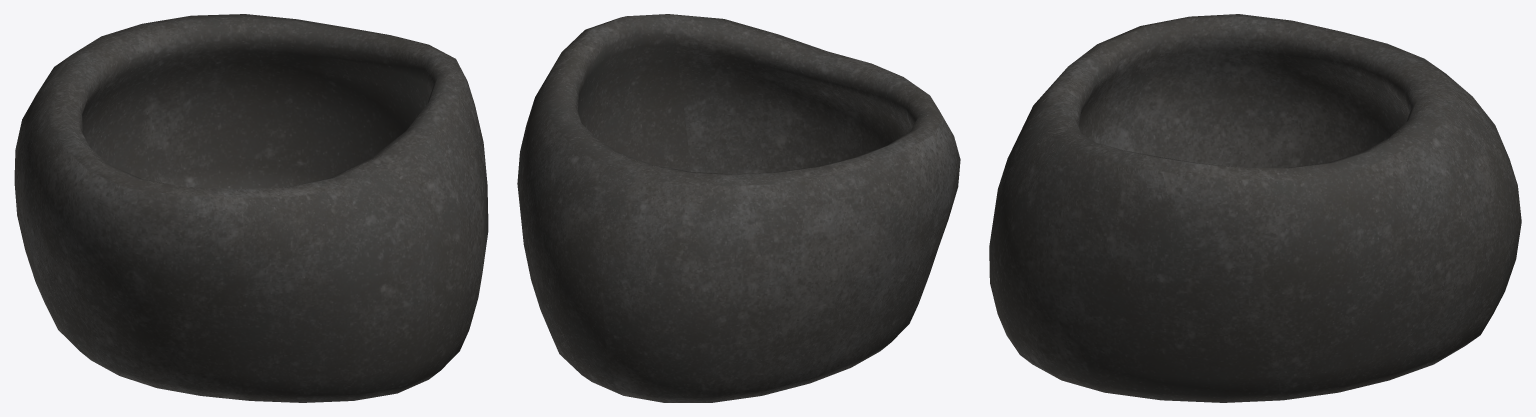
Rendered from Ceramica2.fbx.
3 views of the same model, side by side, from view 1: azimuth 30°, elevation 25°; view 2: azimuth 150°, elevation 25°; view 3: azimuth 270°, elevation 25° (orthographic). The views are drawn at different scales.
Visible parts, largest first — view 1: arcillafase2; view 2: arcillafase2; view 3: arcillafase2.
Part boxes in pixels (box(x1,y1,x2,y2)): arcillafase2: box(14, 14, 488, 402); arcillafase2: box(517, 14, 960, 402); arcillafase2: box(989, 14, 1521, 402).
Bounding box in the file's own units: 86.85 × 51.72 × 98.77.
Materials: 1 (1 with a texture image).
